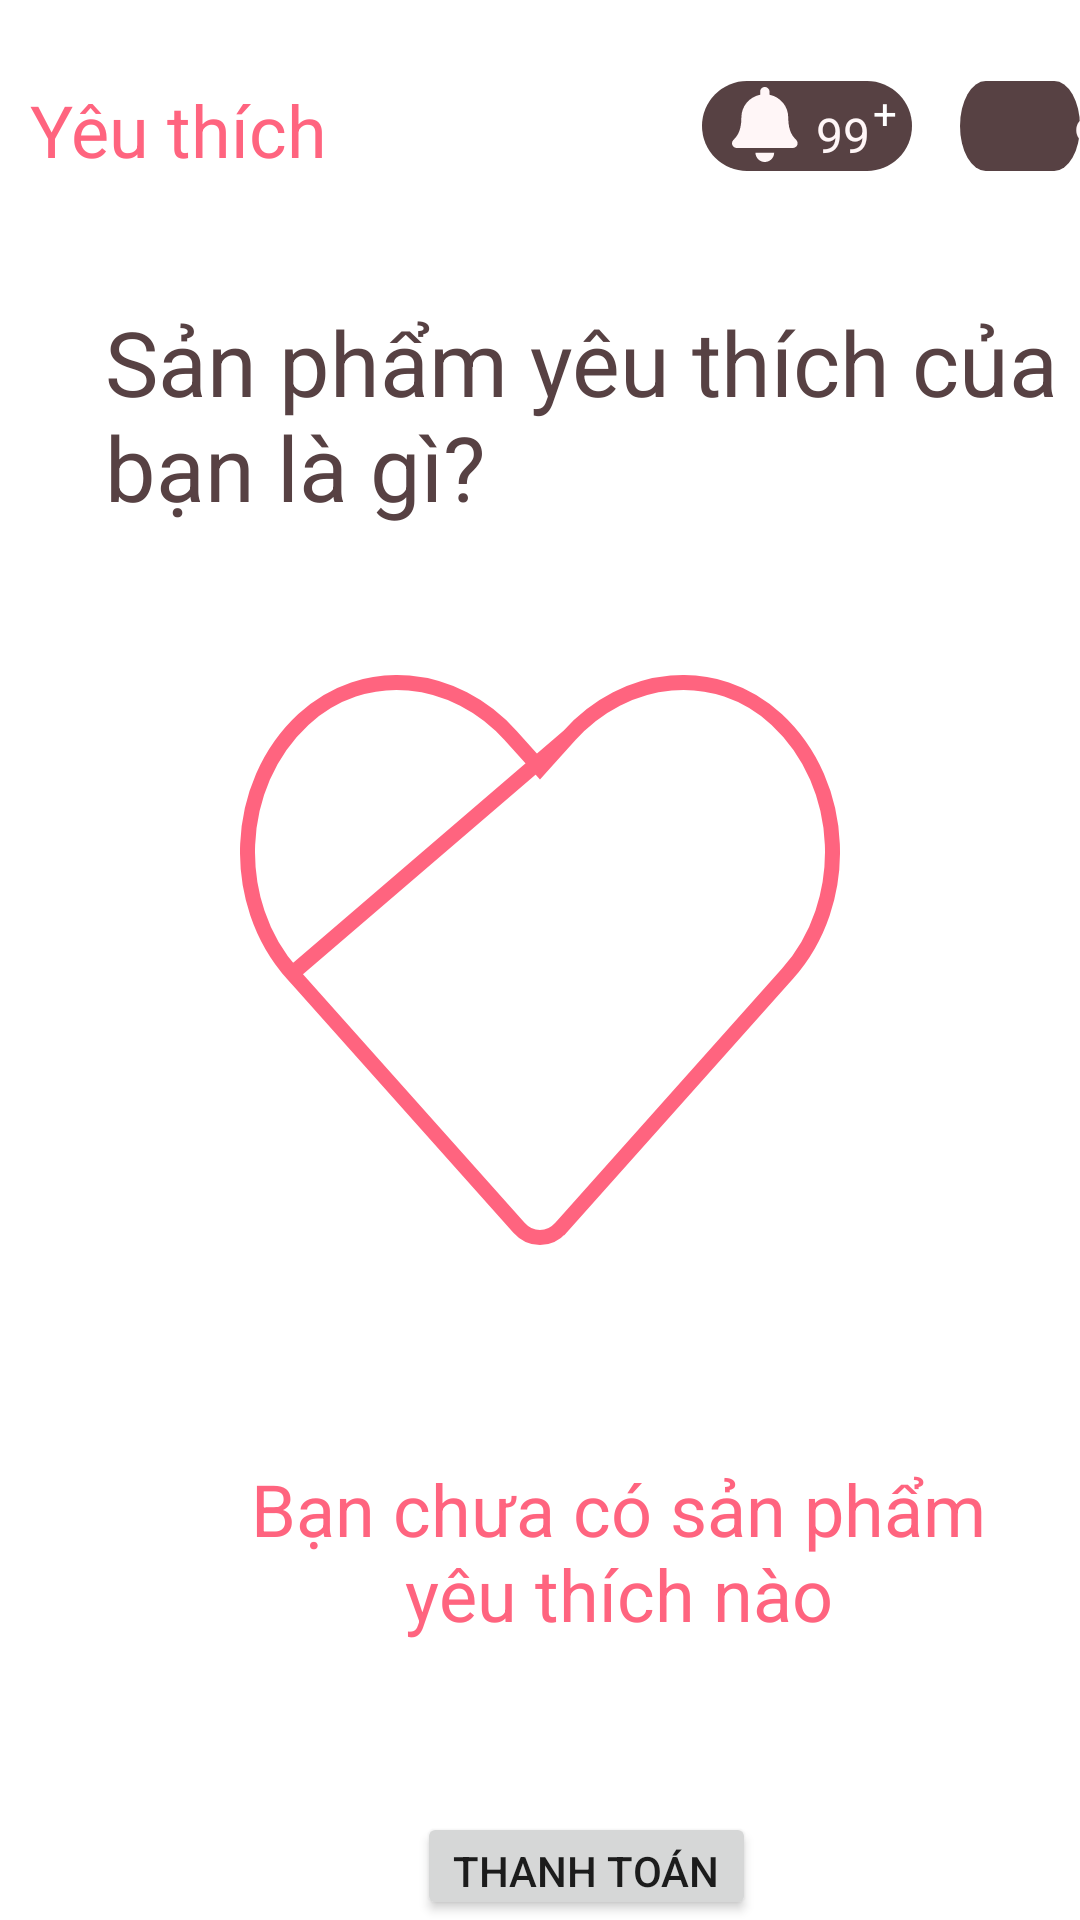

Screen size 1080 x 1920. Icon name, then its center in pixels as (x=x, y=y):
noti bell: (x=765, y=124)
